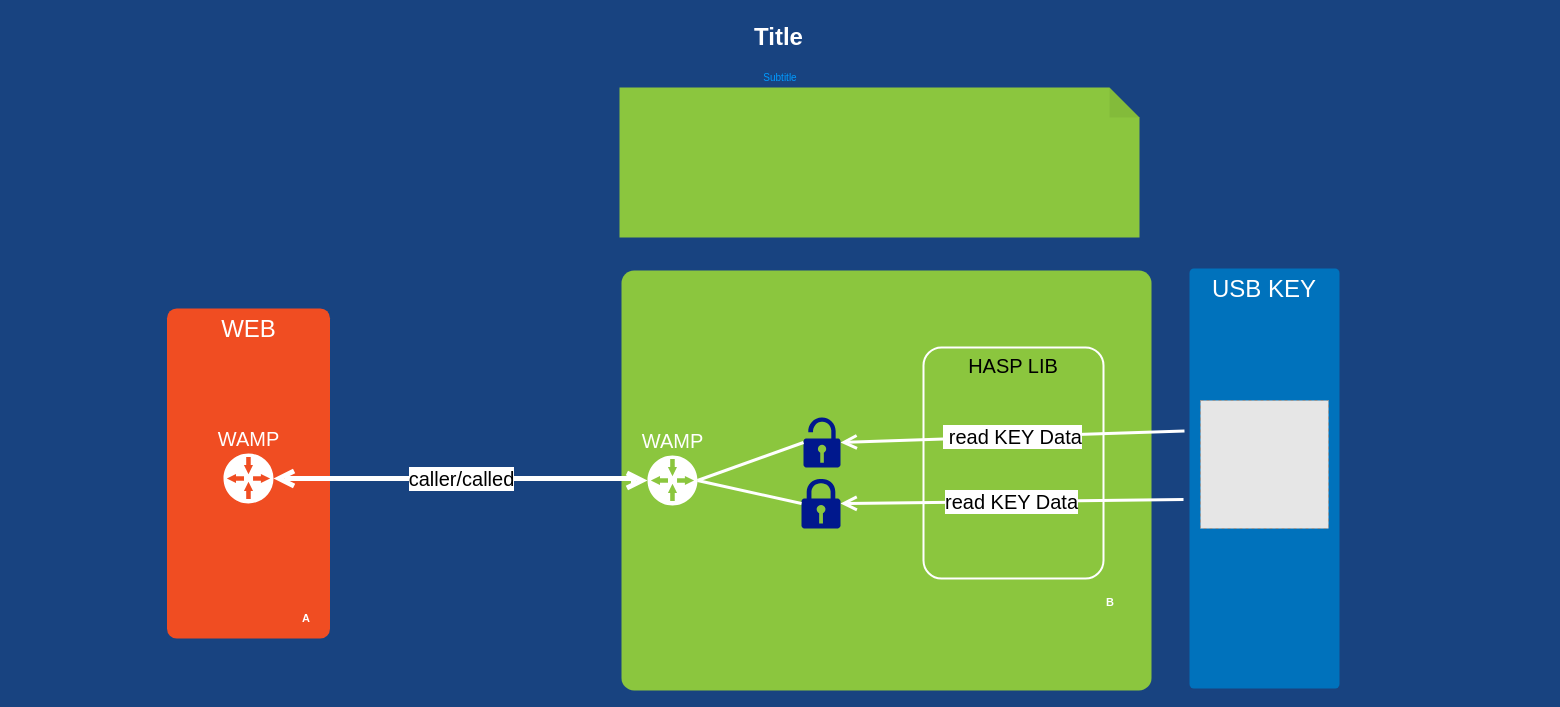
This 1560x707 diagram has some shape labels left out. Grey dashed boxes stand in for pictures. The shapes that lost their labels are listed below. From the top down, each one's box as (x1, y1, x2, y2) in pixels, then its label:
(619, 87, 1139, 237): DES 算法加解密：从usb key 读取密钥，通过密钥进行加解密
(621, 270, 1151, 690): AUTH Service
